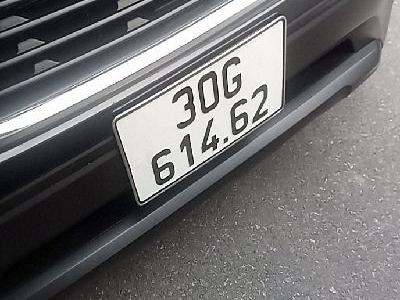number: (112, 17, 285, 206)
